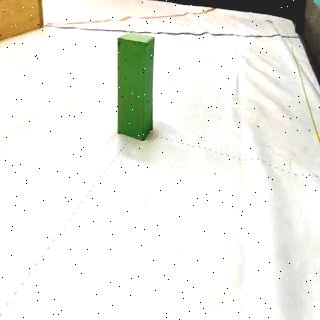greenbox: (116, 31, 156, 142)
